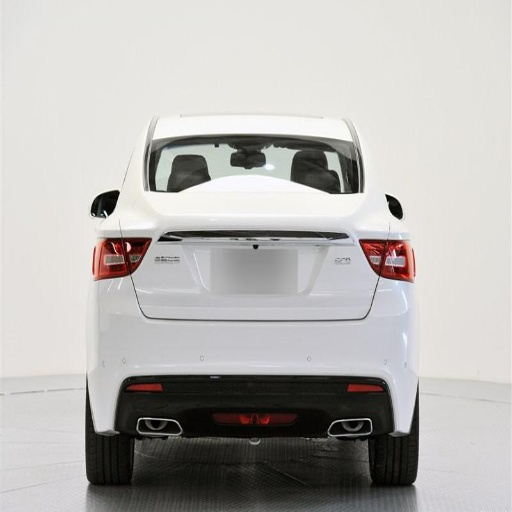back_bumper: (95, 276, 419, 433)
tailgate: (141, 179, 378, 315)
trunk: (123, 195, 318, 321)
